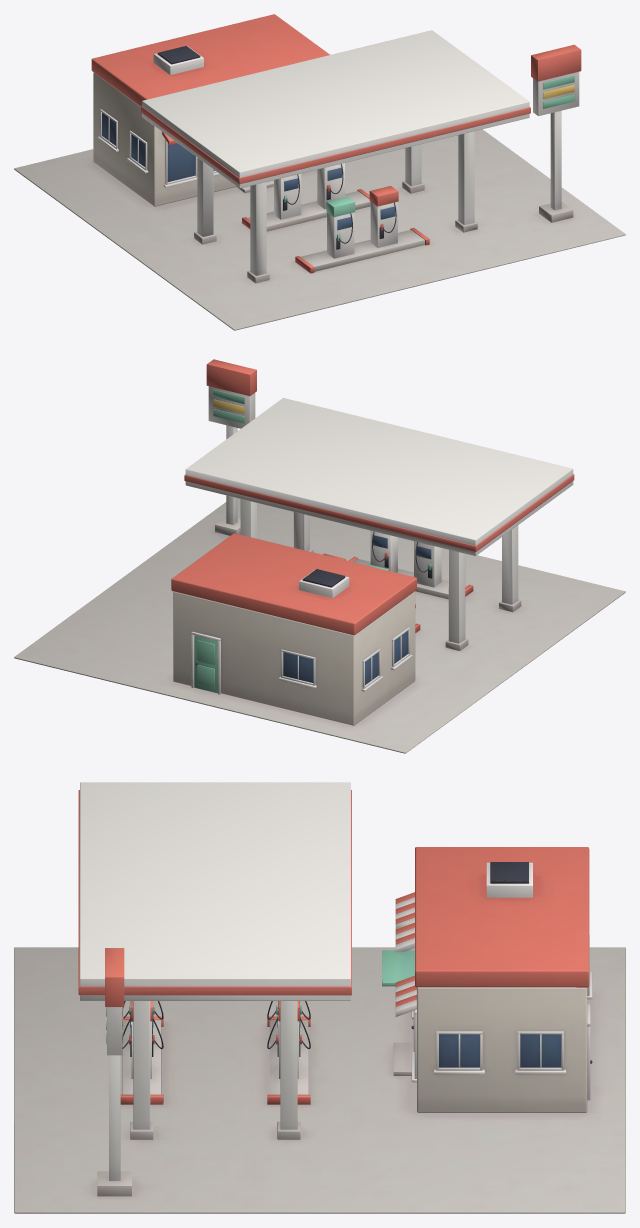
Rendered from arch_gas_station.glb.
3 views of the same model, one above another, from view 1: azimuth 30°, elevation 25°; view 2: azimuth 150°, elevation 25°; view 3: azimuth 270°, elevation 25° (orthographic). The views are drawn at different scales.
Visible parts, largest first — view 1: gas-station_body; view 2: gas-station_body; view 3: gas-station_body.
Boxes of the visible parts, x1=… form: gas-station_body: x1=14, y1=14, x2=625, y2=330; gas-station_body: x1=14, y1=359, x2=625, y2=753; gas-station_body: x1=14, y1=782, x2=625, y2=1213.
Bounding box in the file's own units: 16.2 × 6.51 × 15.8.
Materials: 1 (1 with a texture image).
